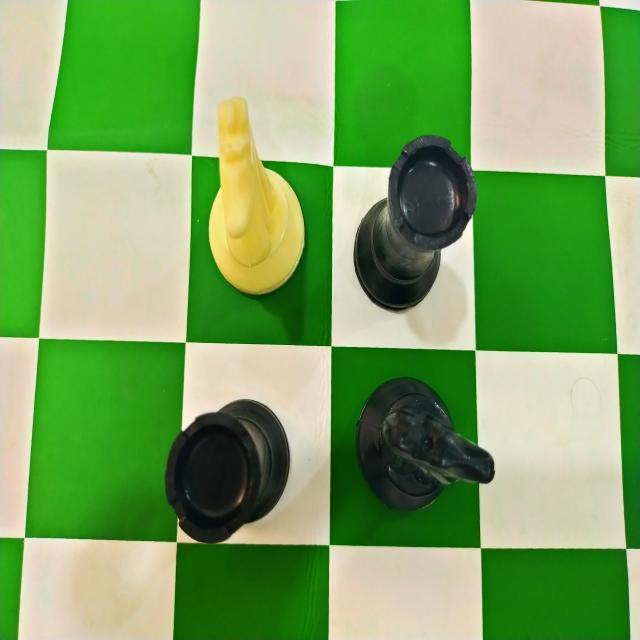black-knight: (355, 375, 496, 512)
black-rook: (351, 133, 479, 313), (164, 396, 292, 545)
white-knight: (207, 93, 305, 297)
